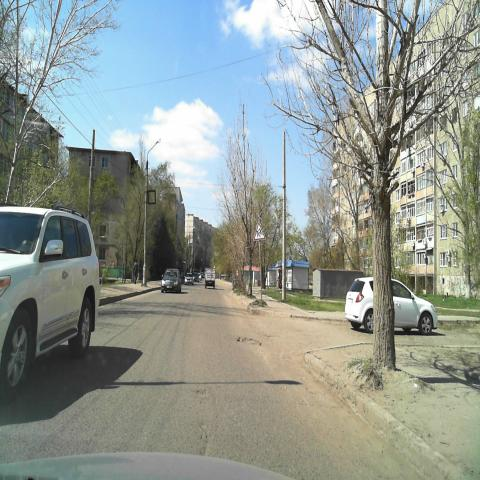1_23: (253, 221, 266, 241)
